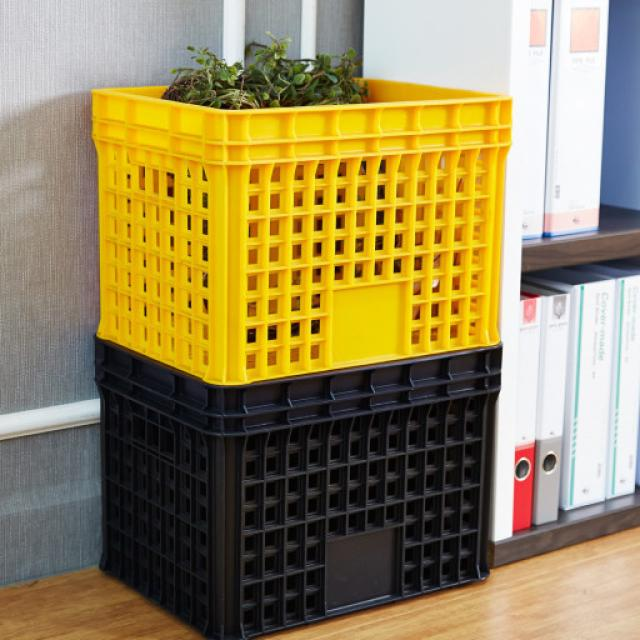basket: (86, 71, 523, 392), (93, 342, 502, 640)
